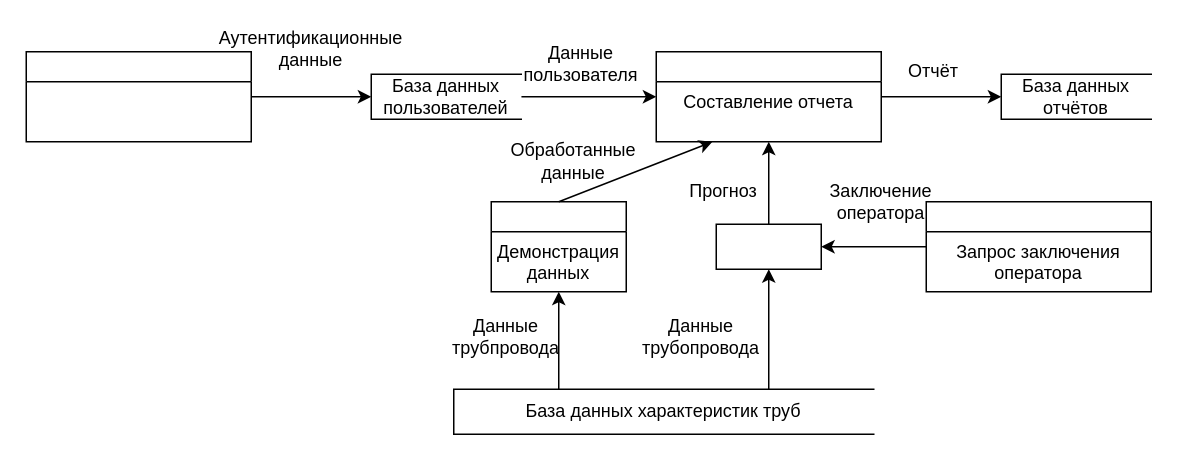
Image size: 1178x473. Some labels were removed from this diagram. The box of each missing label's shape, as (x1, y1, x2, y2) in pixels:
Аутентификация: (25, 50, 251, 142)
ИНС: (715, 223, 821, 269)
